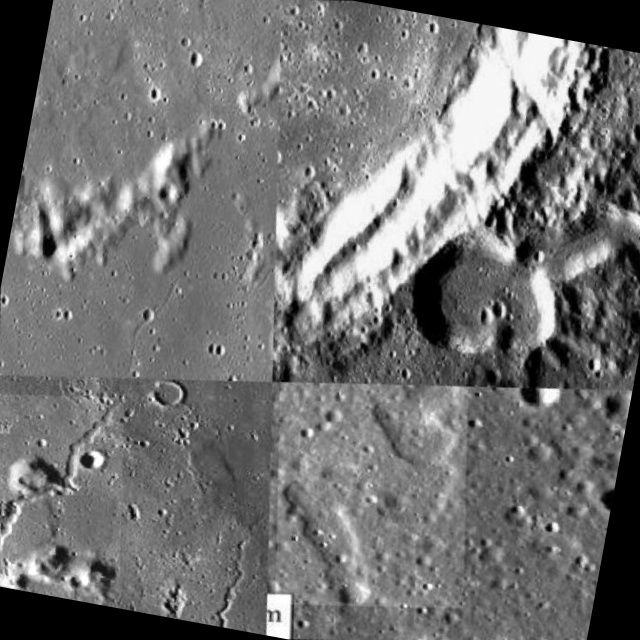crater: (224, 0, 617, 388), (292, 358, 513, 608), (0, 176, 189, 430), (17, 431, 178, 640), (164, 553, 306, 640)
